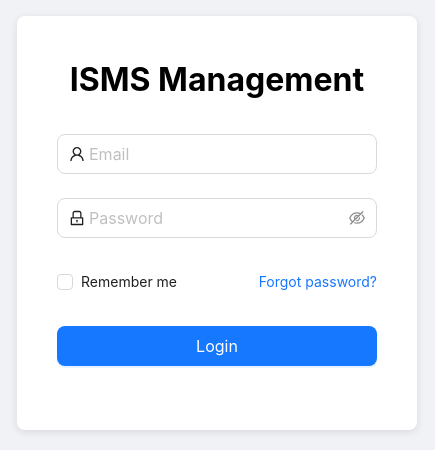
LoginPage › Form Validation › should show error when email is invalid
Type "invalid-email" into the field labelled "Email" at (227, 154), box [89,142,365,166]
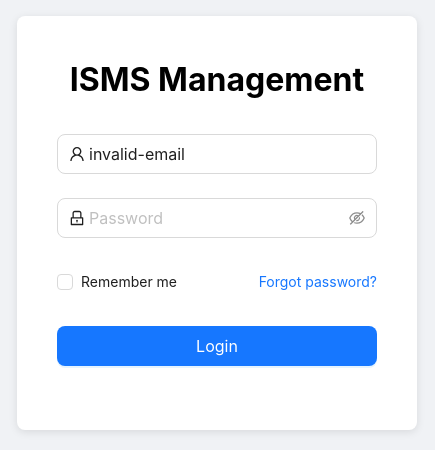
Click the button "Login" at (217, 346), box [57,326,377,366]
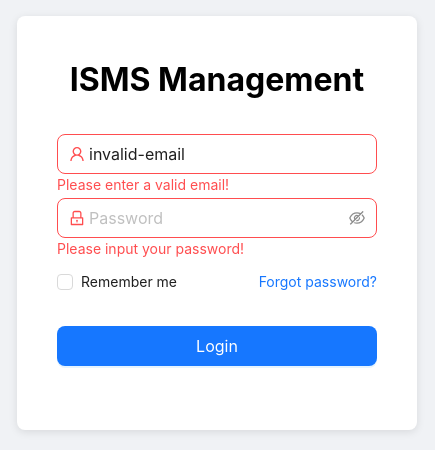
Expected: the text "Please enter a valid email!" is shown, [57,176,229,193]
